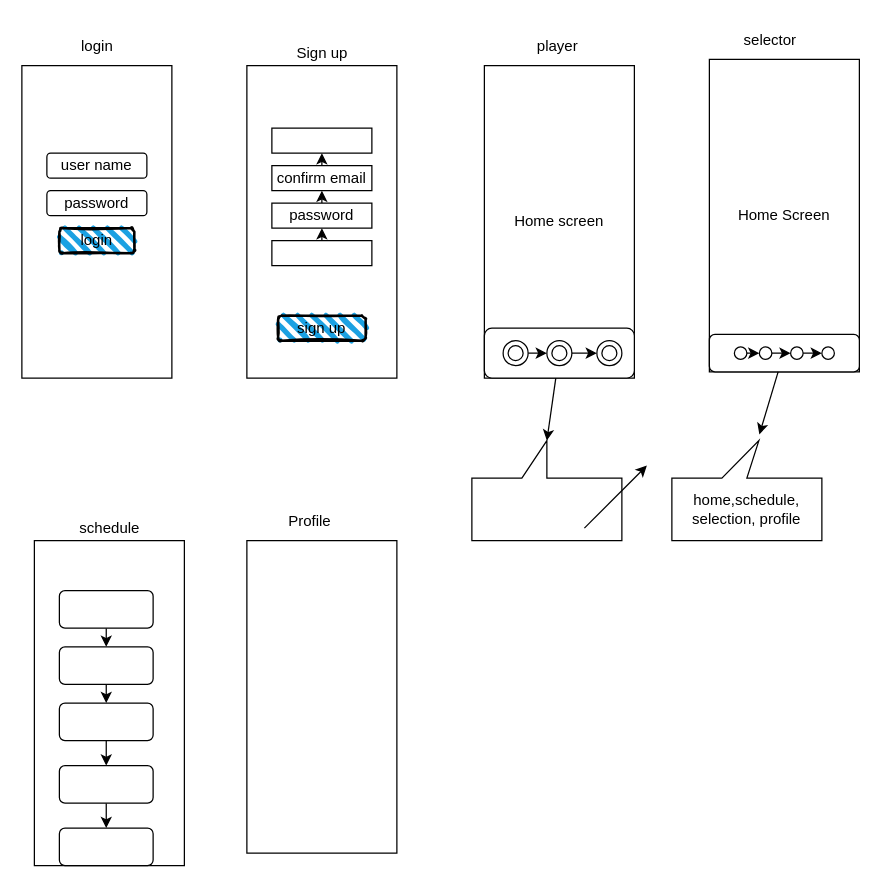
The diagram is 881 pixels wide and 888 high, and some of its shapes have lost their labels. Each missing label, with the box of its shape:
confirm pass: (271, 239, 372, 266)
email or phone: (271, 127, 372, 153)
nav items for home, schedule, profile: (471, 439, 622, 541)
Player profile Name, email, password, picture may be: (246, 539, 397, 853)
